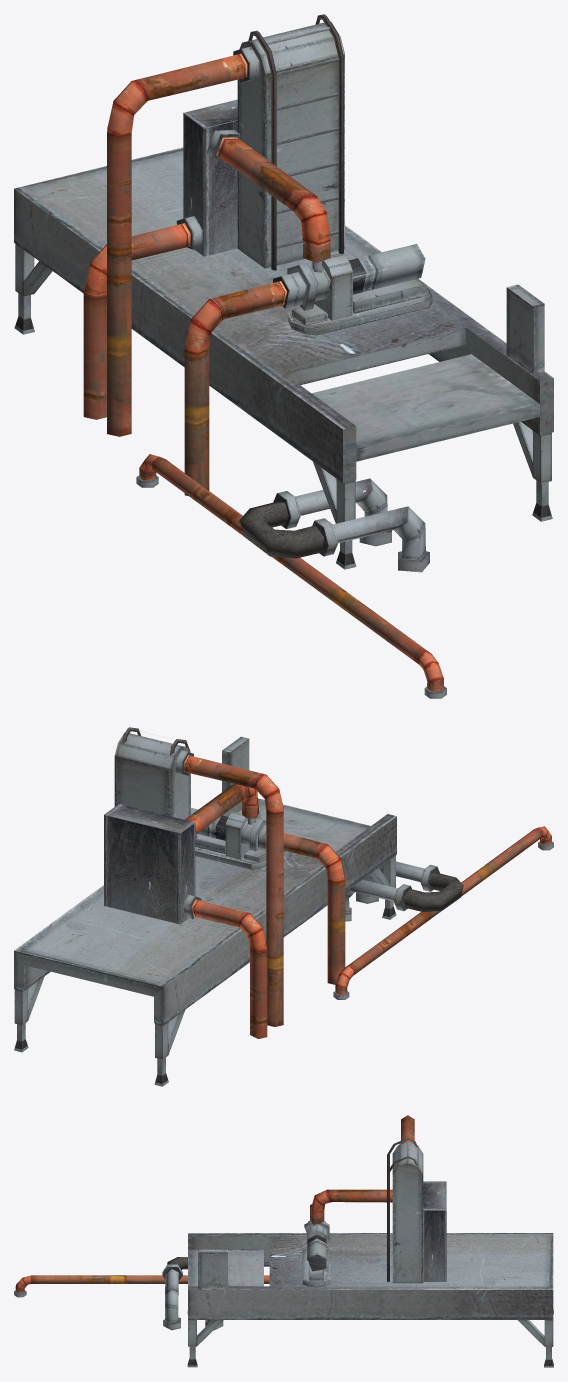
Rendered from Air_vent_system.fbx.
3 renders of one model, top to bottom at view 1: azimuth 30°, elevation 25°; view 2: azimuth 150°, elevation 25°; view 3: azimuth 270°, elevation 25°, orthographic. The views are drawn at different scales.
Visible parts, largest first — view 1: Air_vent_system; view 2: Air_vent_system; view 3: Air_vent_system.
Boxes of the visible parts, <box> form: Air_vent_system: <box>14,14,553,698</box>; Air_vent_system: <box>14,727,553,1086</box>; Air_vent_system: <box>14,1115,553,1367</box>.
Size of the model in its own units: 250 by 296 by 713.
